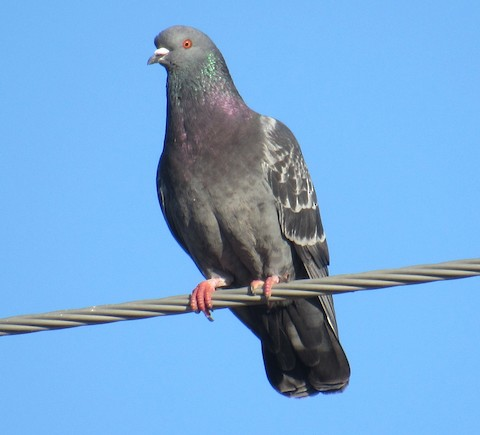pigeon: (141, 21, 364, 402)
